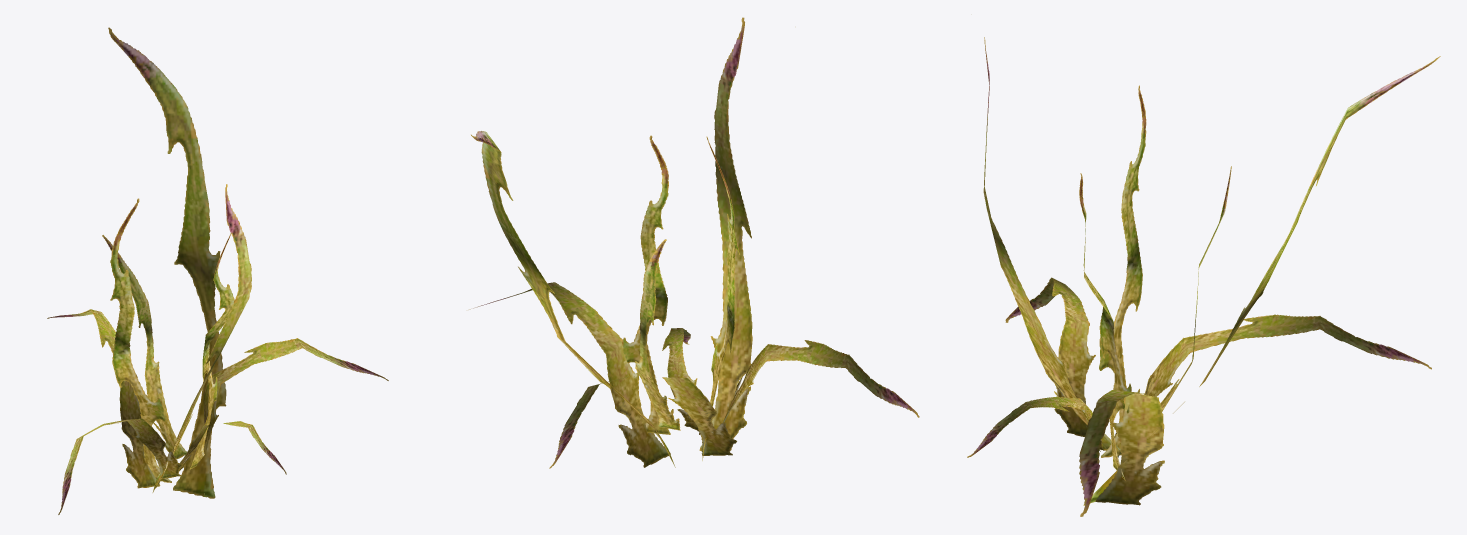
File: core_leaf_razorgrass_field_a2_l0.fbx
3 views of the same model, side by side, from view 1: azimuth 30°, elevation 25°; view 2: azimuth 150°, elevation 25°; view 3: azimuth 270°, elevation 25° (orthographic). The views are drawn at different scales.
Parts seen in each view (by area): view 1: mesh_node; view 2: mesh_node; view 3: mesh_node.
Part boxes in pixels (x1,y1,x2,y2): mesh_node: [47, 27, 388, 514]; mesh_node: [469, 17, 919, 468]; mesh_node: [967, 37, 1440, 516].
Size of the model in its own units: 0.9751 by 1.02 by 0.8718.
